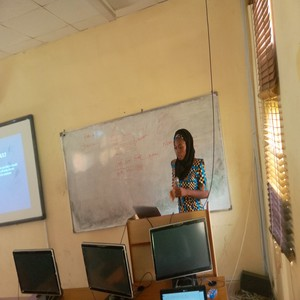Fulokoja_female_student: (166, 128, 213, 212)
